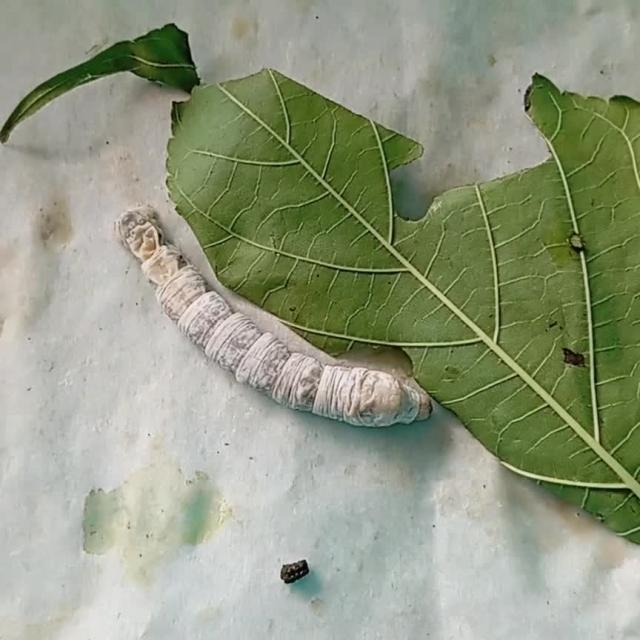Grasserie: (109, 189, 438, 449)
